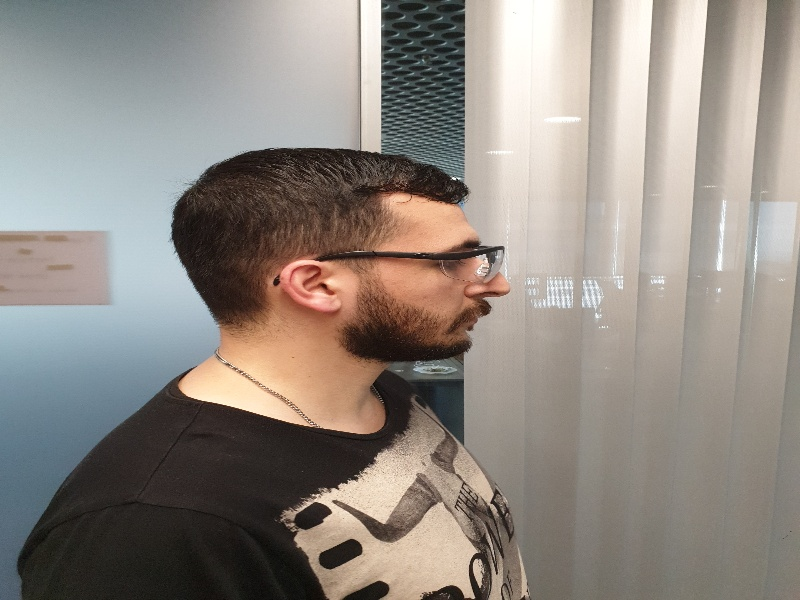Gozluk: (304, 244, 509, 292)
